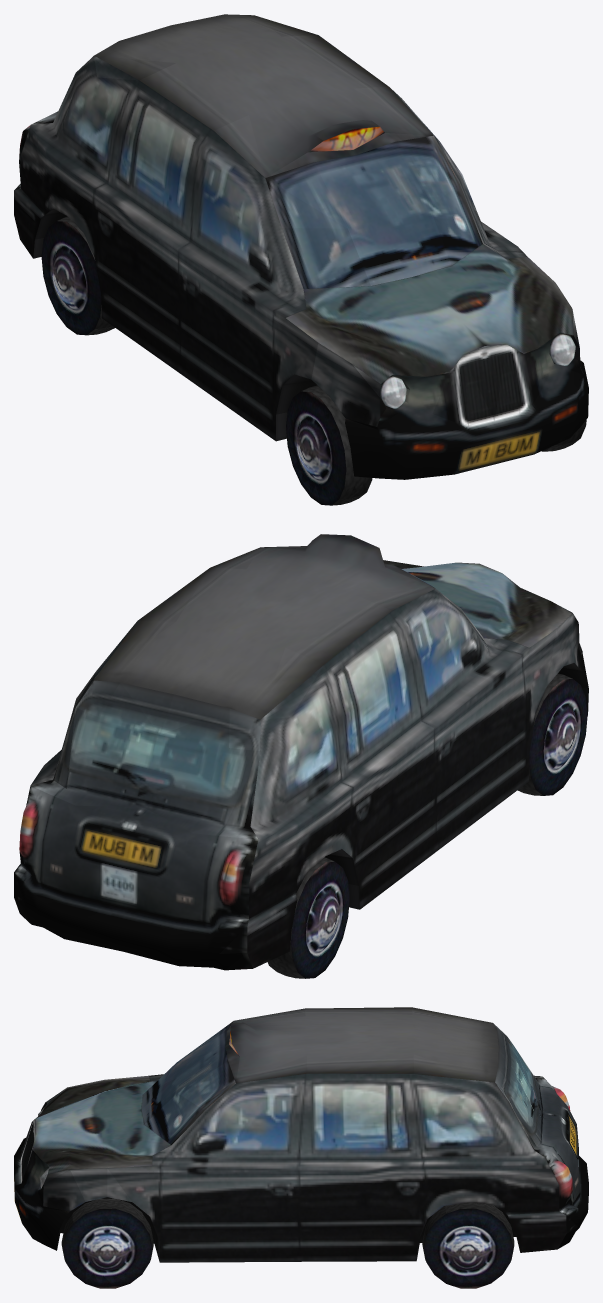
The model's file is taxis_british.obj.
The picture shows the model from 3 angles, top to bottom: view 1: azimuth 30°, elevation 25°; view 2: azimuth 150°, elevation 25°; view 3: azimuth 270°, elevation 25°; orthographic projection. The views are drawn at different scales.
Visible parts, largest first — view 1: taxis_british; view 2: taxis_british; view 3: taxis_british.
Part boxes in pixels (bbox=[...]): taxis_british: bbox=[14, 14, 588, 505]; taxis_british: bbox=[14, 534, 588, 978]; taxis_british: bbox=[14, 1007, 588, 1288].
Bounding box in the file's own units: 1.63 × 1.64 × 3.95.
Materials: 1 (1 with a texture image).
